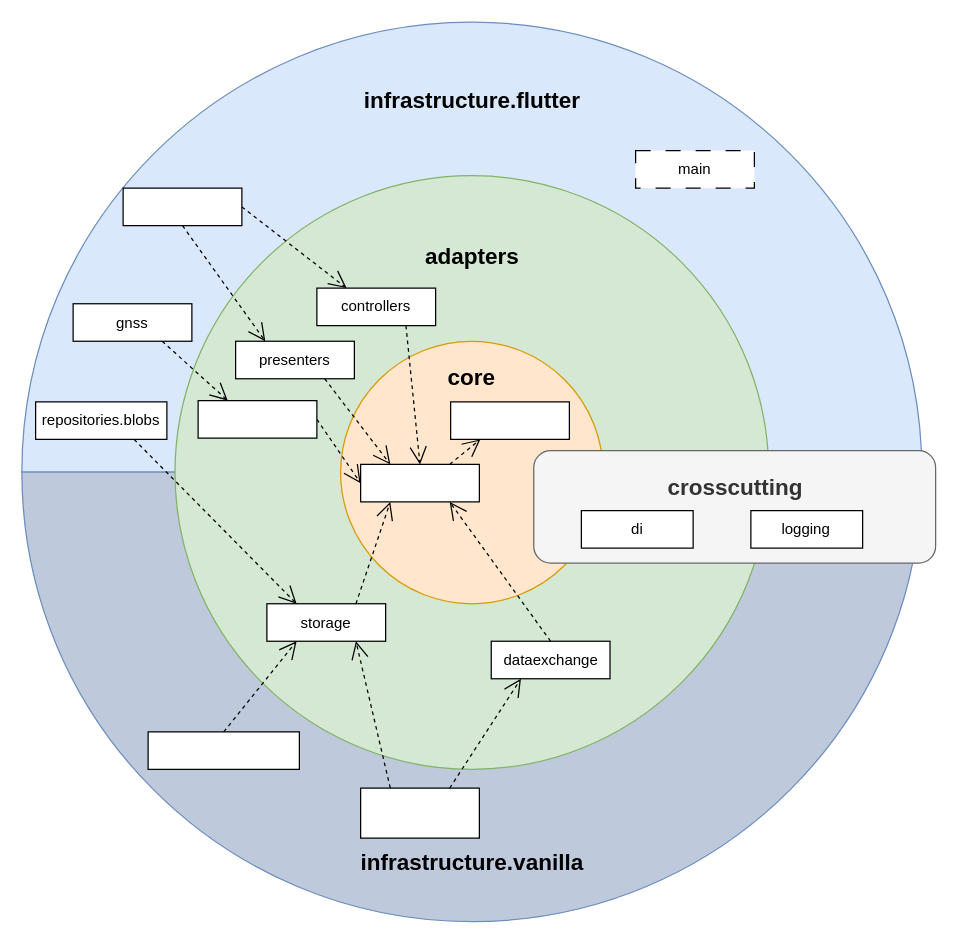
This 958x944 diagram has some shape labels left out. Here are the shapes that lost their labels. From the top down, the centre of each, then its label:
At pixel 182 206: "ui".
At pixel 257 418: "positioning".
At pixel 509 420: "entities".
At pixel 419 482: "usecases".
At pixel 223 750: "repositories.sqlite3".
At pixel 419 812: "dart:io (file system)".
